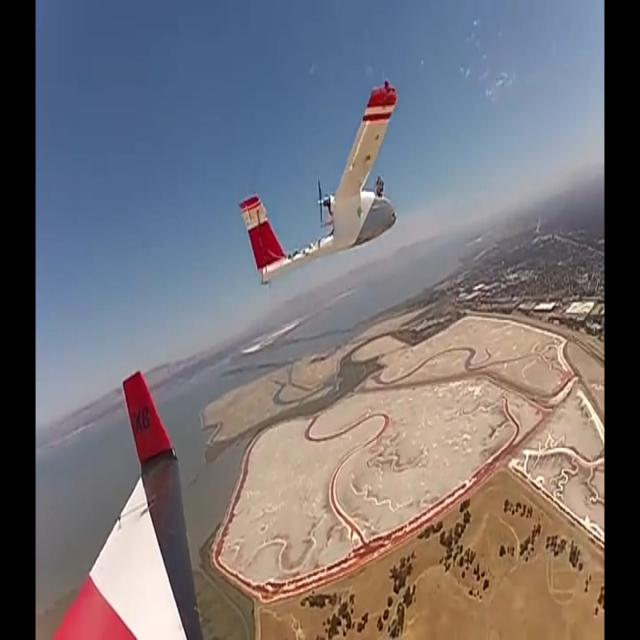iha: (238, 77, 398, 289)
